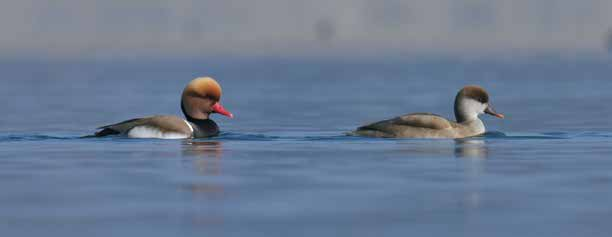texte: (4, 82, 312, 154), (464, 86, 563, 157), (310, 113, 425, 141)
